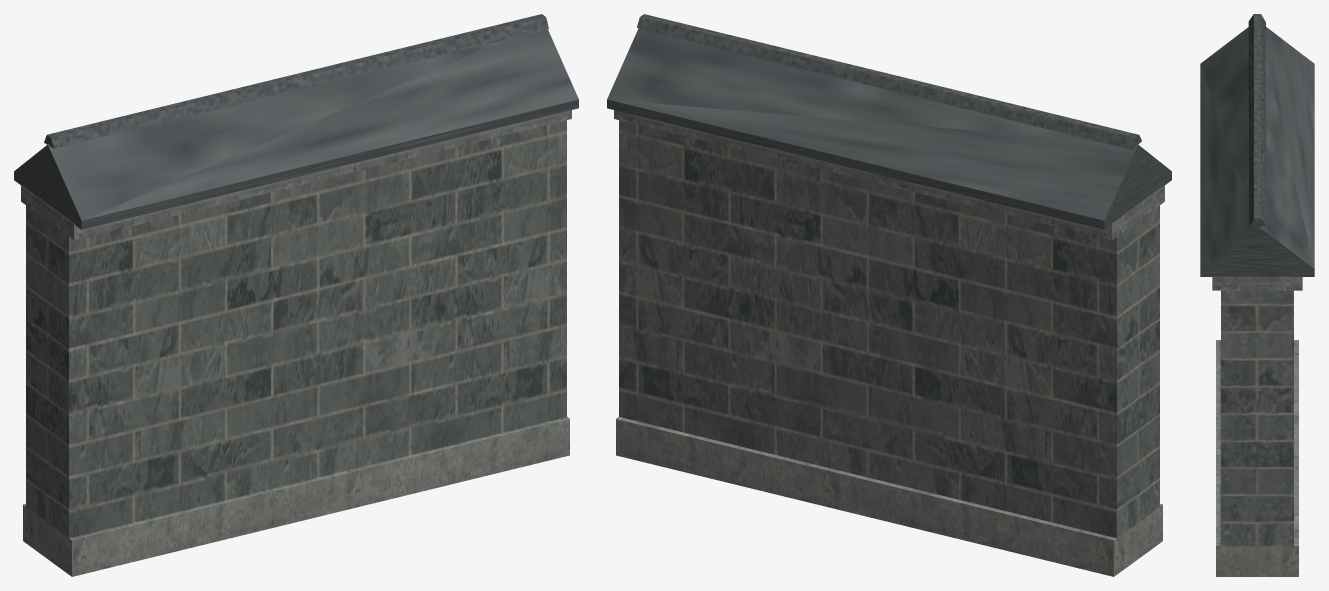
The model's file is CourtWallFar.fbx.
3 views of the same model, side by side, from view 1: azimuth 30°, elevation 25°; view 2: azimuth 150°, elevation 25°; view 3: azimuth 270°, elevation 25° (orthographic). The views are drawn at different scales.
Visible parts, largest first — view 1: CourtWallFar; view 2: CourtWallFar; view 3: CourtWallFar.
Boxes of the visible parts, bbox=[...] form: CourtWallFar: bbox=[14, 14, 578, 576]; CourtWallFar: bbox=[607, 14, 1171, 576]; CourtWallFar: bbox=[1200, 14, 1314, 576].
Size of the model in its own units: 2 by 1.62 by 0.47.
